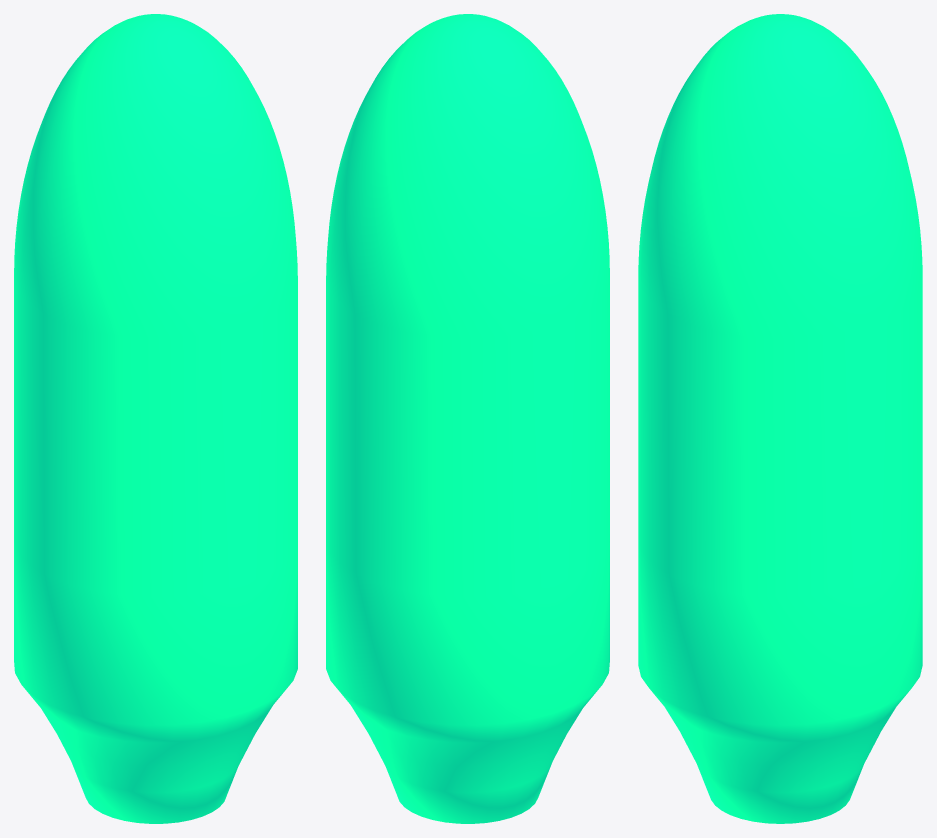
The model's file is beam.glb.
The picture shows the model from 3 angles, left to right: view 1: azimuth 30°, elevation 25°; view 2: azimuth 150°, elevation 25°; view 3: azimuth 270°, elevation 25°; orthographic projection.
Visible parts, largest first — view 1: Cylinder; view 2: Cylinder; view 3: Cylinder.
Boxes of the visible parts, bbox=[...] form: Cylinder: bbox=[14, 14, 297, 823]; Cylinder: bbox=[326, 14, 609, 823]; Cylinder: bbox=[638, 14, 922, 823].
Size of the model in its own units: 2 by 6 by 2.
